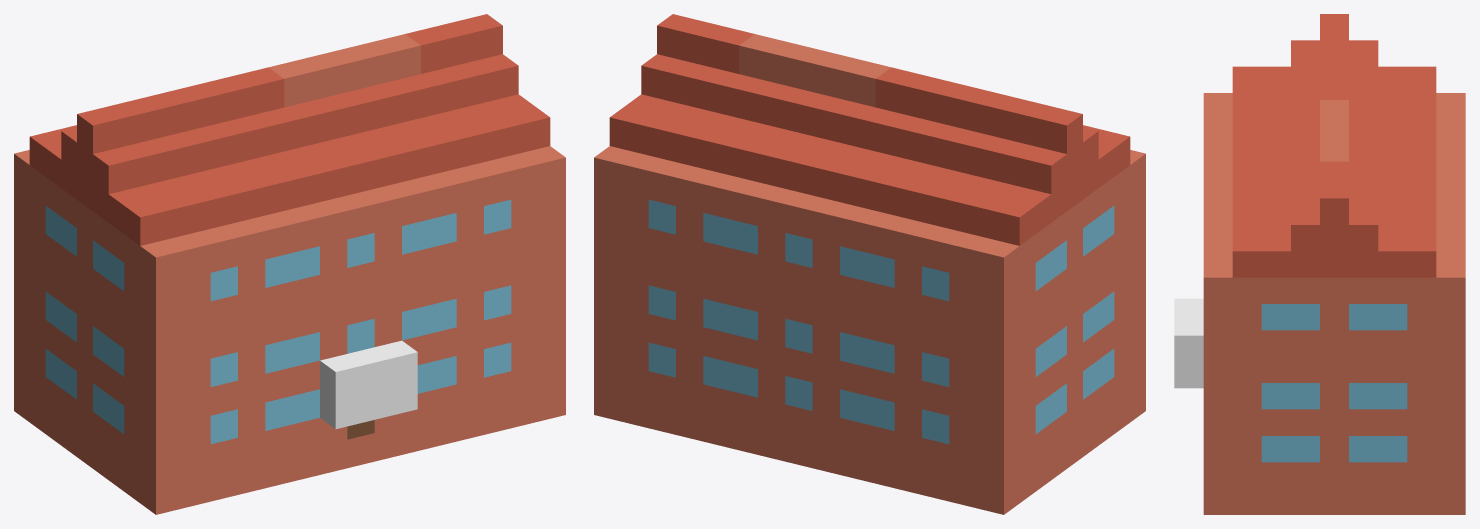
Rendered from apartment_3.glb.
3 renders of one model, left to right at view 1: azimuth 30°, elevation 25°; view 2: azimuth 150°, elevation 25°; view 3: azimuth 270°, elevation 25°, orthographic. The views are drawn at different scales.
Visible parts, largest first — view 1: apartment_3_brick, apartment_3_roof_red, apartment_3_window, apartment_3_white; view 2: apartment_3_brick, apartment_3_roof_red, apartment_3_window; view 3: apartment_3_brick, apartment_3_roof_red, apartment_3_window, apartment_3_white.
Boxes of the visible parts, box(x1,y1,x2,y2) form: apartment_3_brick: box(14, 34, 565, 514); apartment_3_roof_red: box(29, 14, 550, 245); apartment_3_window: box(45, 199, 511, 444); apartment_3_white: box(320, 340, 417, 428); apartment_3_brick: box(594, 34, 1145, 514); apartment_3_roof_red: box(609, 14, 1130, 245); apartment_3_window: box(648, 199, 1114, 444); apartment_3_brick: box(1203, 93, 1465, 514); apartment_3_roof_red: box(1232, 14, 1436, 277); apartment_3_window: box(1261, 304, 1407, 462); apartment_3_white: box(1174, 298, 1203, 388).
Size of the model in its own units: 18.26 by 14.6 by 12.17.
